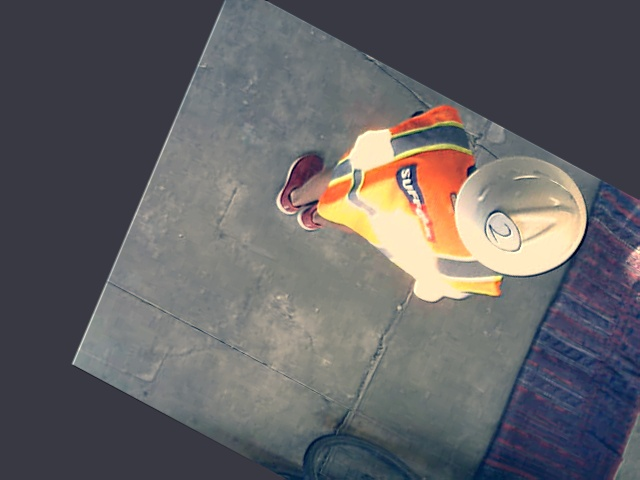two: (478, 207, 529, 258)
